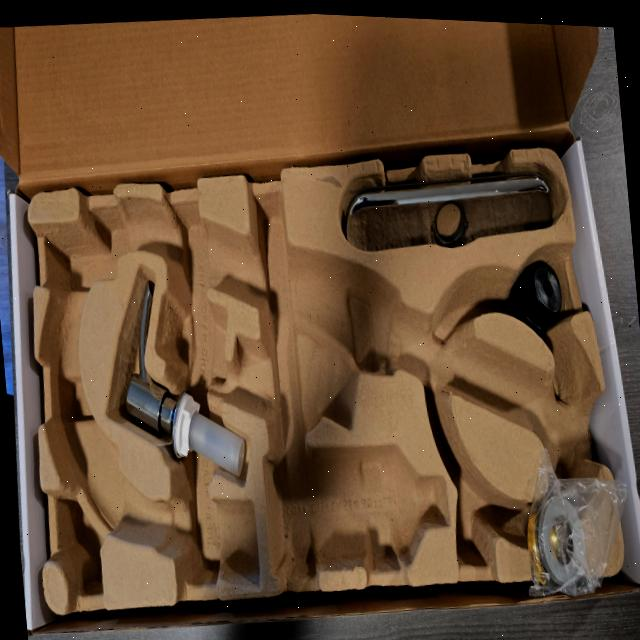1m: (41, 201, 610, 581)
2: (123, 279, 245, 475)
3m: (261, 445, 451, 572)
4: (343, 174, 552, 250)
5: (508, 260, 560, 328)
6: (526, 452, 628, 602)
7m: (434, 433, 513, 569)
